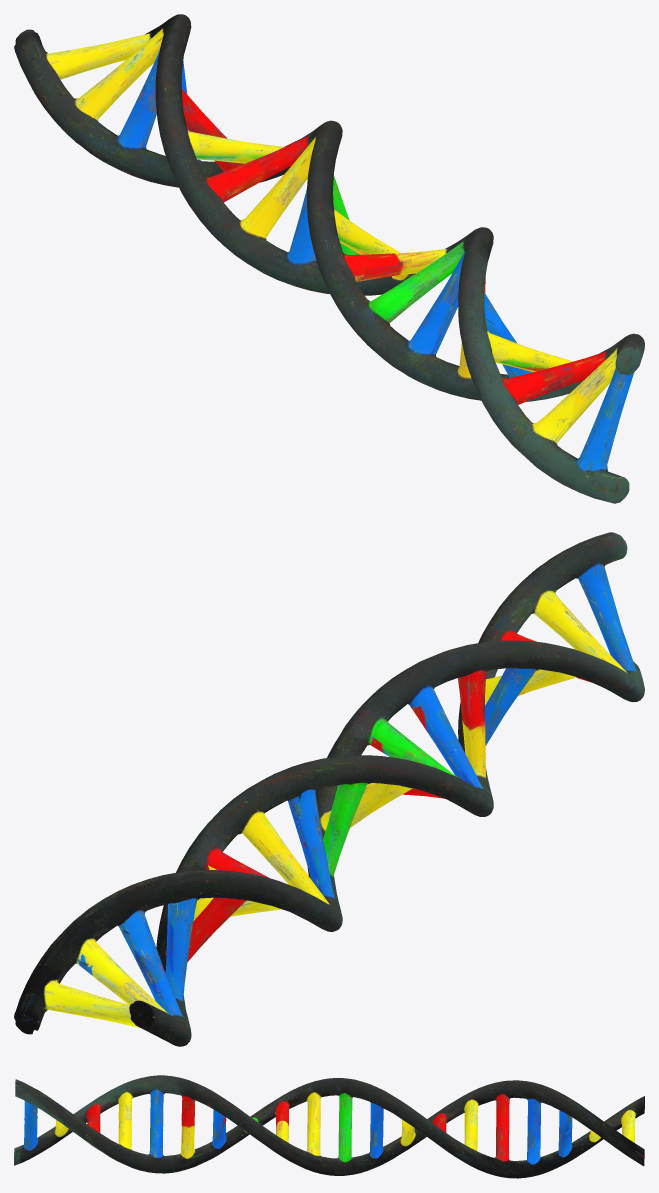
The model's file is dna.glb.
The picture shows the model from 3 angles, top to bottom: view 1: azimuth 30°, elevation 25°; view 2: azimuth 150°, elevation 25°; view 3: azimuth 270°, elevation 25°; orthographic projection. The views are drawn at different scales.
Visible parts, largest first — view 1: Mesh1.0; view 2: Mesh1.0; view 3: Mesh1.0.
Boxes of the visible parts, bbox=[...] form: Mesh1.0: bbox=[14, 14, 644, 503]; Mesh1.0: bbox=[14, 532, 644, 1046]; Mesh1.0: bbox=[14, 1075, 644, 1178].
Size of the model in its own units: 0.3123 by 0.337 by 2.01.
1 material, 1 textured.
